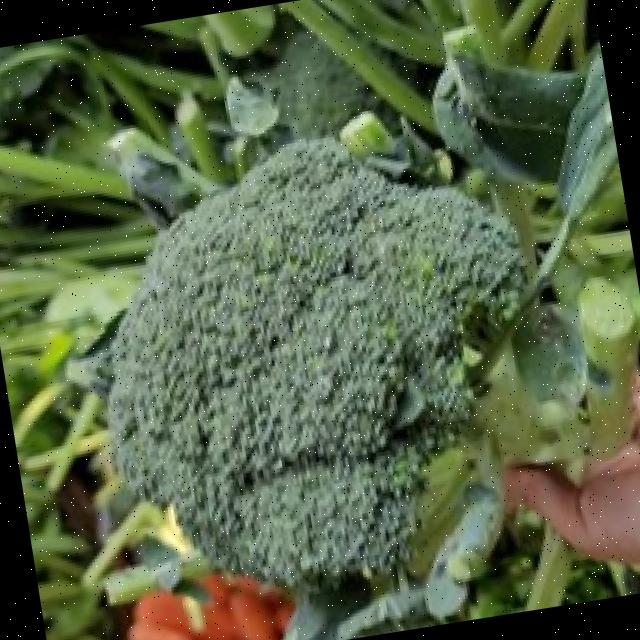Broccoli: (109, 139, 521, 583), (110, 139, 516, 582)
